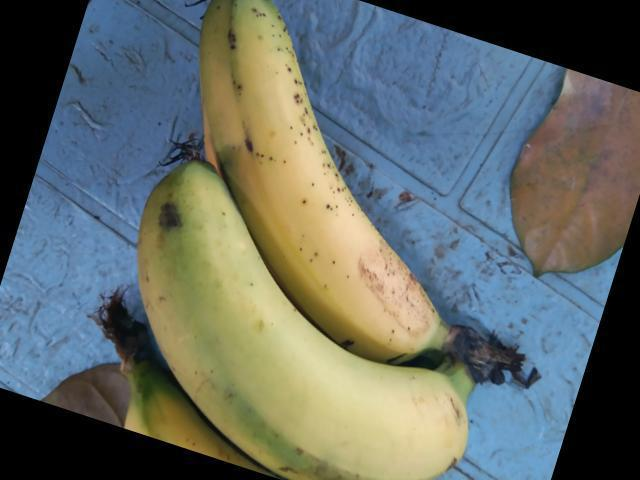freshripe: (145, 166, 461, 479)
ripe: (205, 0, 446, 366)
